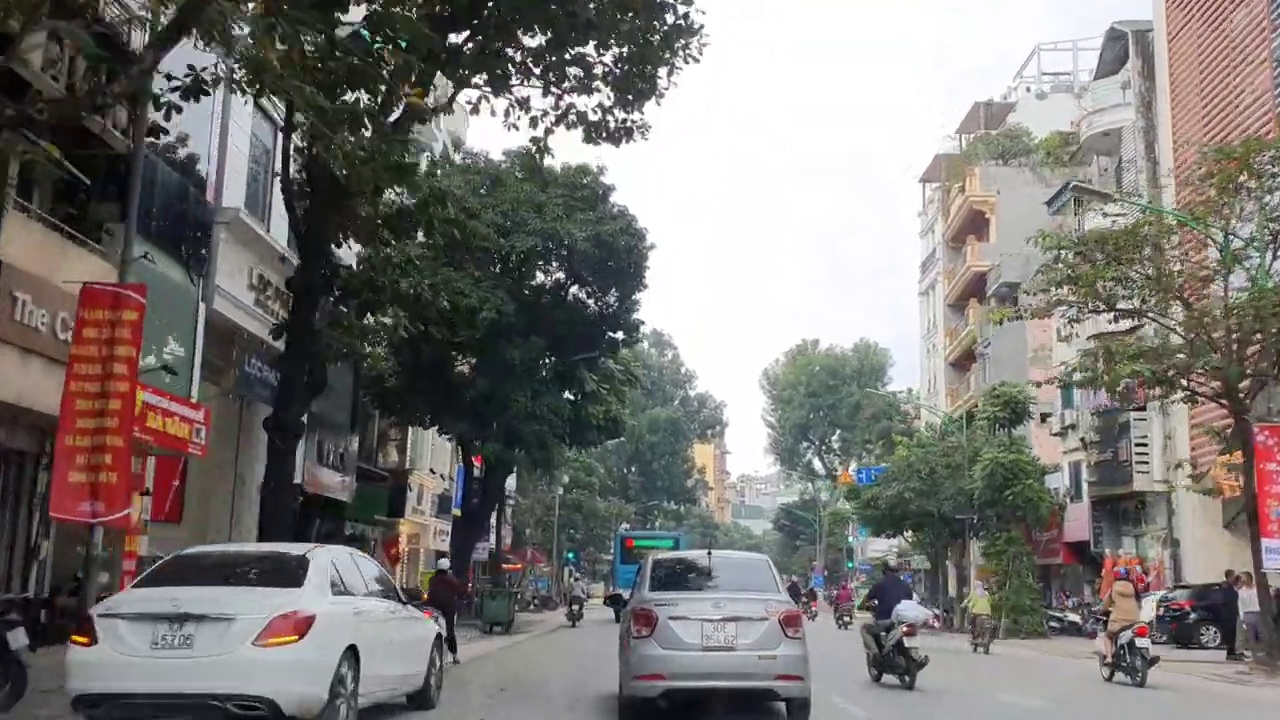vehicle-plate: (144, 613, 202, 655)
